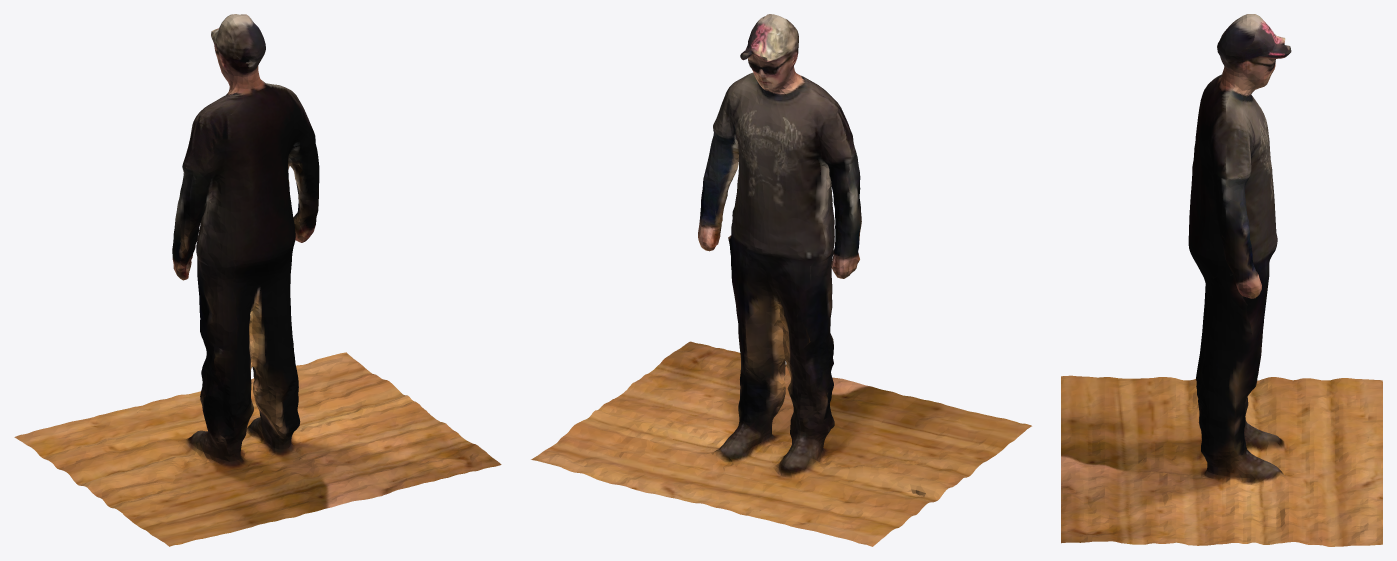
3 views of the same model, side by side, from view 1: azimuth 30°, elevation 25°; view 2: azimuth 150°, elevation 25°; view 3: azimuth 270°, elevation 25° (orthographic). The views are drawn at different scales.
Bounding box in the file's own units: 1.49 × 1.86 × 1.21.
Materials: 1 (1 with a texture image).
